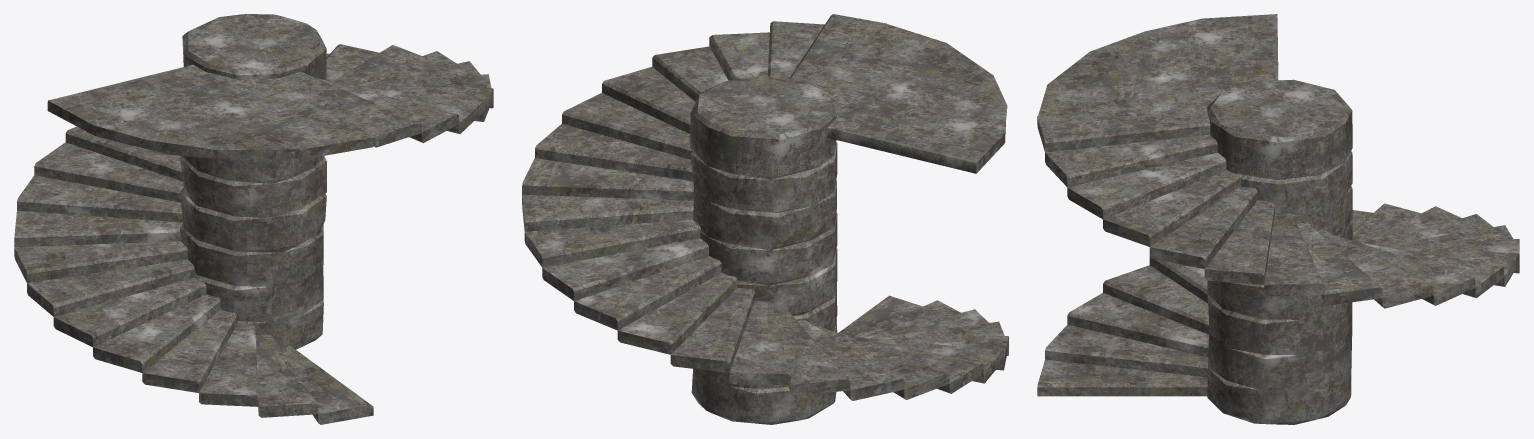
The model's file is SM_Spiral_Stairs_Cap.fbx.
The picture shows the model from 3 angles, left to right: view 1: azimuth 30°, elevation 25°; view 2: azimuth 150°, elevation 25°; view 3: azimuth 270°, elevation 25°; orthographic projection.
Parts seen in each view (by area): view 1: SM_Spiral_Stairs_Cap; view 2: SM_Spiral_Stairs_Cap; view 3: SM_Spiral_Stairs_Cap.
Part boxes in pixels (<box>): SM_Spiral_Stairs_Cap: <box>14,14,493,424</box>; SM_Spiral_Stairs_Cap: <box>522,14,1008,424</box>; SM_Spiral_Stairs_Cap: <box>1037,14,1519,424</box>.
Bounding box in the file's own units: 707 × 706 × 465.
